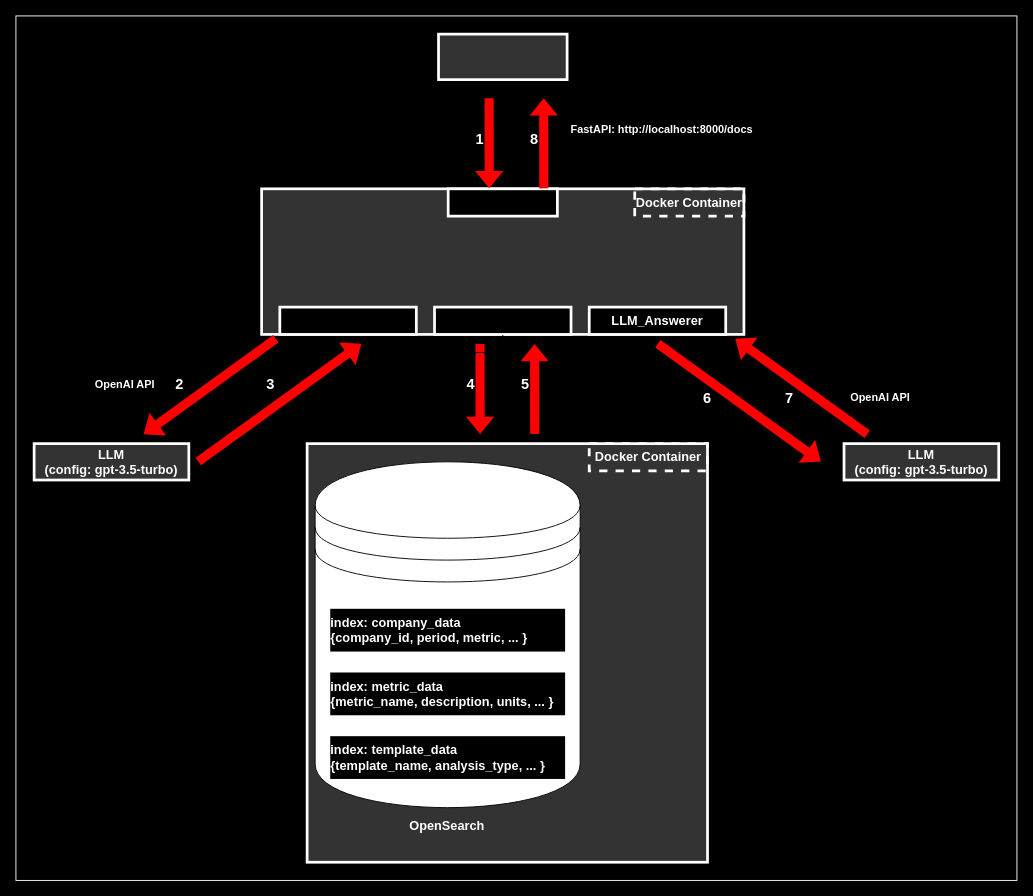
Some shapes in this 1033 by 896 pixel diagram are drawn without their labels. The shapes that lost their labels are listed below. From the top down, each one's centre as x and y in pixels, then its label:
At (502,56): "Client Browser".
At (502,202): "web_app".
At (347,320): "LLM_Request_Parser".
At (502,320): "RAG_Handler".
